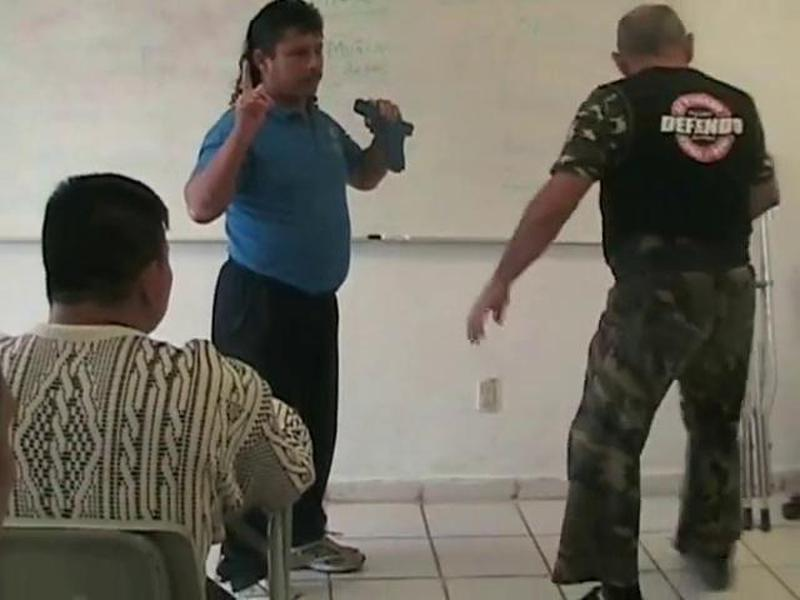Pistola: (337, 87, 431, 184)
